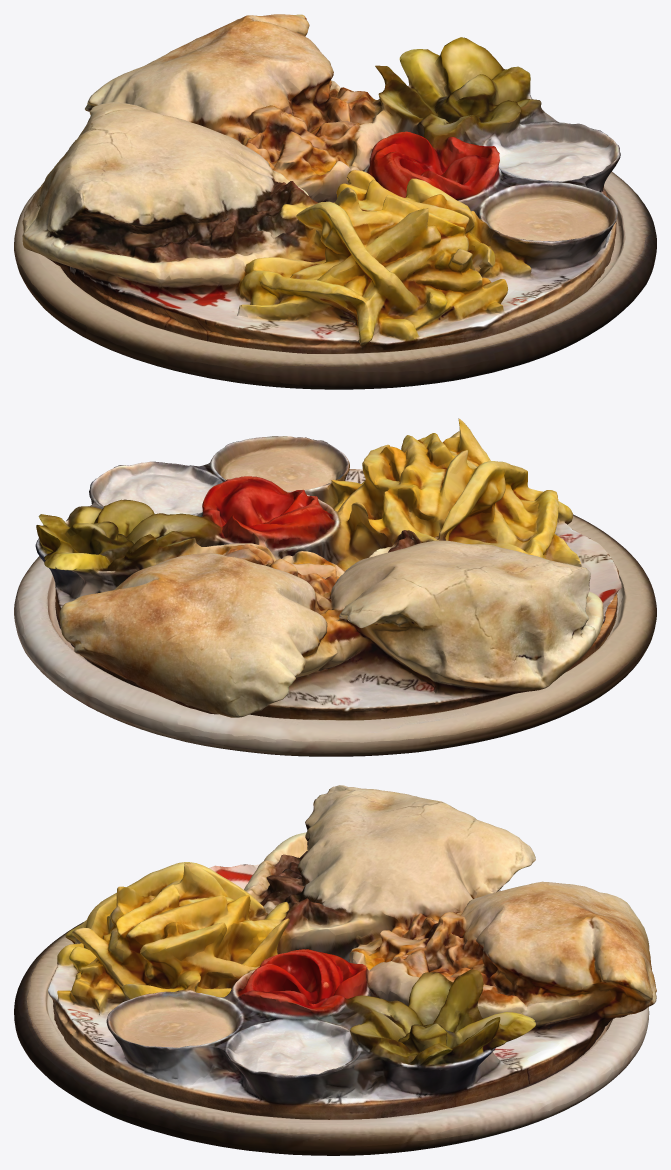
File: mixed.shawerma.platter.constrat.glb
The picture shows the model from 3 angles, top to bottom: view 1: azimuth 30°, elevation 25°; view 2: azimuth 150°, elevation 25°; view 3: azimuth 270°, elevation 25°; orthographic projection.
Visible parts, largest first — view 1: /Root/Scenes/Scene/Object_37/Object_38/Submesh_0, /Root/Scenes/Scene/Object_37/Object_39/Object_40/Submesh_0; view 2: /Root/Scenes/Scene/Object_37/Object_38/Submesh_0, /Root/Scenes/Scene/Object_37/Object_39/Object_40/Submesh_0; view 3: /Root/Scenes/Scene/Object_37/Object_38/Submesh_0, /Root/Scenes/Scene/Object_37/Object_39/Object_40/Submesh_0.
Part boxes in pixels (left/top/right/bottom): /Root/Scenes/Scene/Object_37/Object_38/Submesh_0: left=22, top=14, right=620, bottom=353; /Root/Scenes/Scene/Object_37/Object_39/Object_40/Submesh_0: left=14, top=171, right=656, bottom=389; /Root/Scenes/Scene/Object_37/Object_38/Submesh_0: left=35, top=418, right=621, bottom=720; /Root/Scenes/Scene/Object_37/Object_39/Object_40/Submesh_0: left=14, top=514, right=656, bottom=756; /Root/Scenes/Scene/Object_37/Object_38/Submesh_0: left=48, top=785, right=656, bottom=1119; /Root/Scenes/Scene/Object_37/Object_39/Object_40/Submesh_0: left=14, top=922, right=649, bottom=1155.
Size of the model in its own units: 0.3413 by 0.0806 by 0.3455.
2 materials, 2 textured.
